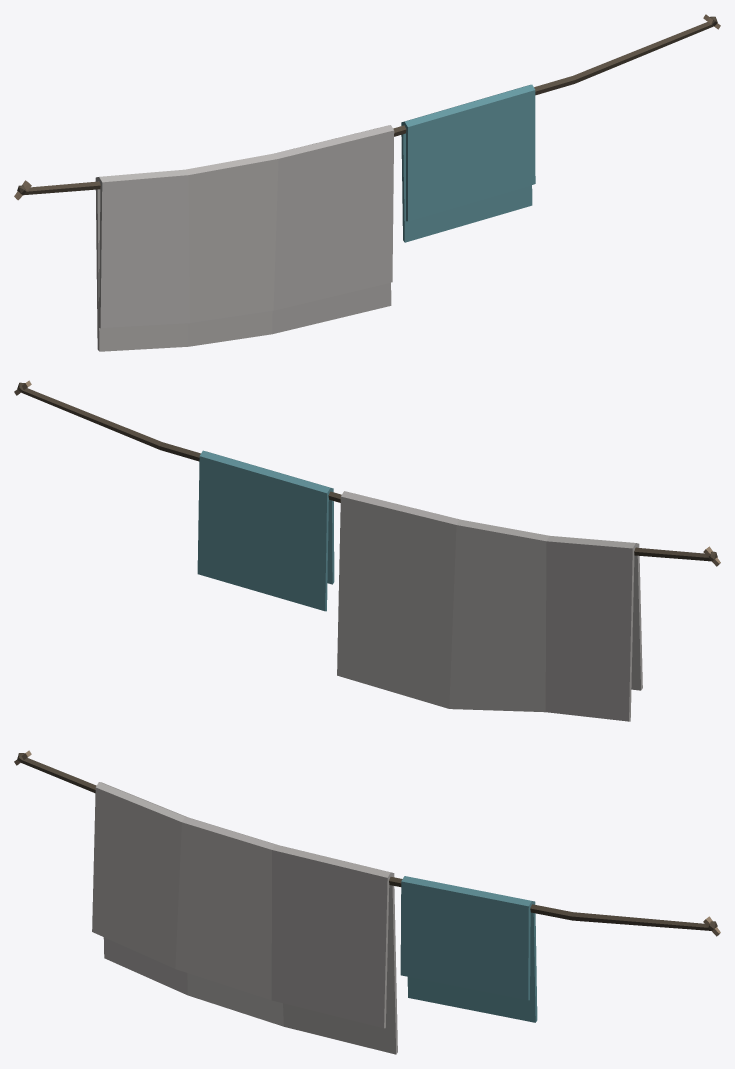
Rendered from SM_Prop_Washingline_02.fbx.
3 views of the same model, one above another, from view 1: azimuth 30°, elevation 25°; view 2: azimuth 150°, elevation 25°; view 3: azimuth 330°, elevation 25° (orthographic).
Visible parts, largest first — view 1: SM_Prop_Washingline_02; view 2: SM_Prop_Washingline_02; view 3: SM_Prop_Washingline_02.
Boxes of the visible parts, box(x1,y1,x2,y2) form: SM_Prop_Washingline_02: box(14, 14, 720, 351); SM_Prop_Washingline_02: box(14, 380, 720, 721); SM_Prop_Washingline_02: box(14, 750, 720, 1054).
Size of the model in its own units: 691 by 204 by 25.14.
